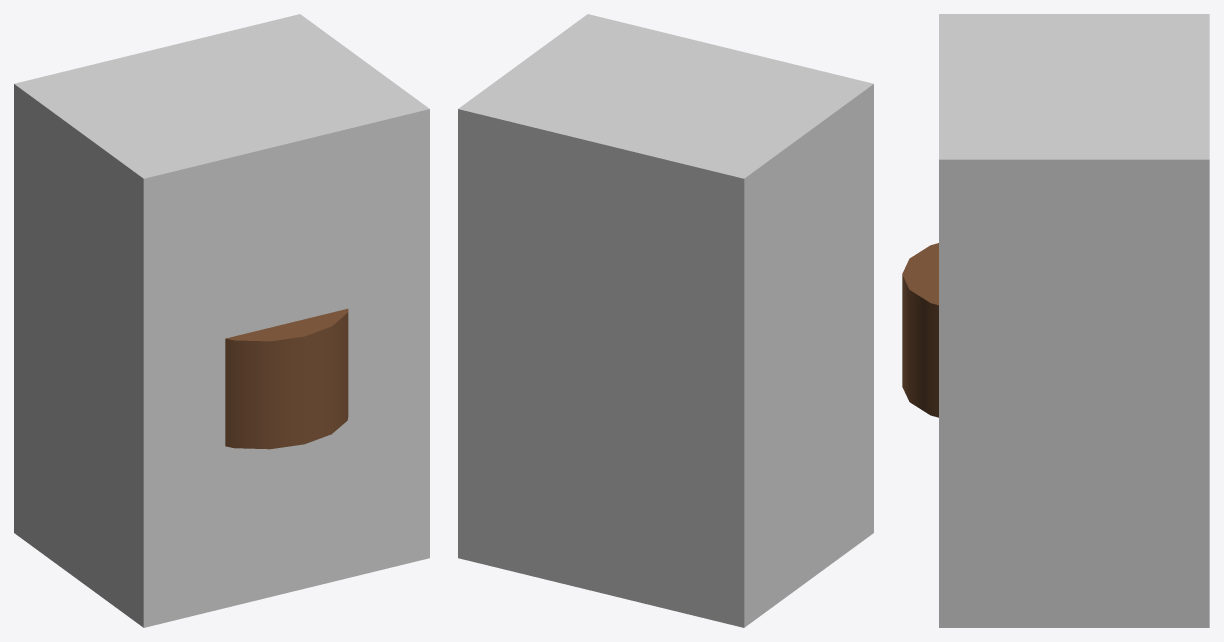
File: wall-sconce_luxury.glb
3 renders of one model, left to right at view 1: azimuth 30°, elevation 25°; view 2: azimuth 150°, elevation 25°; view 3: azimuth 270°, elevation 25°, orthographic. The views are drawn at different scales.
Visible parts, largest first — view 1: COL_wall-sconce, MESH_Shade; view 2: COL_wall-sconce; view 3: COL_wall-sconce, MESH_Shade.
Part boxes in pixels (<box>): COL_wall-sconce: <box>14,14,429,627</box>; MESH_Shade: <box>225,308,348,449</box>; COL_wall-sconce: <box>458,14,873,627</box>; COL_wall-sconce: <box>939,14,1209,627</box>; MESH_Shade: <box>902,243,938,417</box>.
Size of the model in its own units: 0.28 by 0.42 by 0.25.
